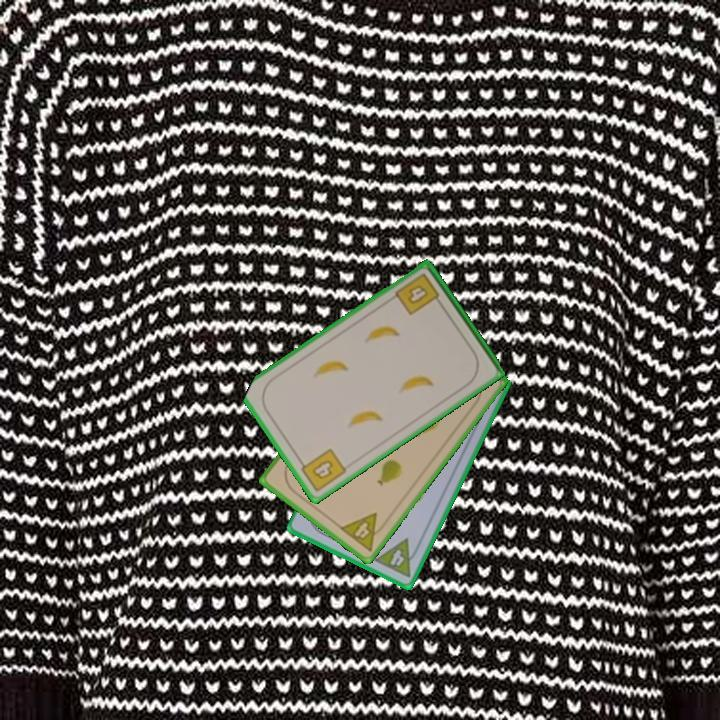4b: (295, 445, 349, 495), (392, 270, 445, 318)
4p: (336, 509, 390, 555), (371, 535, 423, 580)
